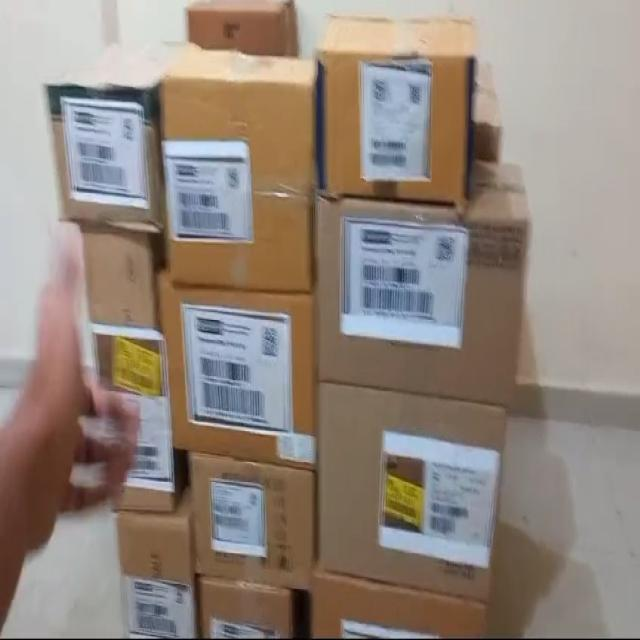BoxFace: (316, 189, 526, 411), (316, 381, 509, 605), (166, 49, 316, 307), (322, 5, 474, 210), (74, 220, 176, 510), (165, 277, 318, 465), (42, 79, 165, 234), (185, 451, 316, 591)
